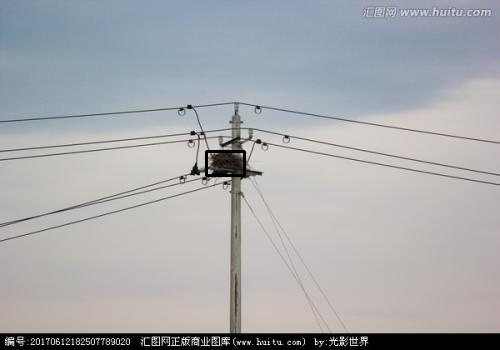bird-nest: (206, 151, 244, 175)
